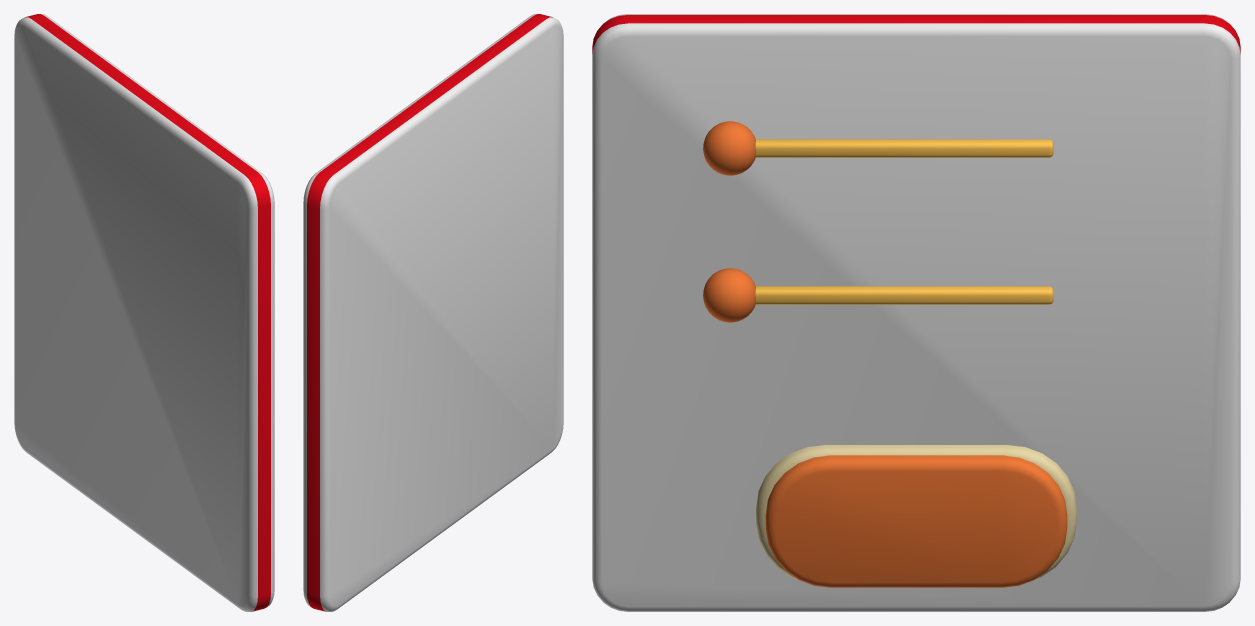
File: DM_Panel_1.fbx
The picture shows the model from 3 angles, left to right: view 1: azimuth 30°, elevation 25°; view 2: azimuth 150°, elevation 25°; view 3: azimuth 270°, elevation 25°; orthographic projection. The views are drawn at different scales.
Parts seen in each view (by area): view 1: DM_Panel_1; view 2: DM_Panel_1; view 3: DM_Panel_1, DM_Panel_3, DM_Panel_4, DM_Panel_6, DM_Panel_2, DM_Panel_5, DM_Panel_7.
Boxes of the visible parts, left/top/right/bottom form: DM_Panel_1: left=14, top=14, right=274, bottom=611; DM_Panel_1: left=303, top=14, right=563, bottom=611; DM_Panel_1: left=592, top=14, right=1240, bottom=611; DM_Panel_3: left=765, top=455, right=1067, bottom=587; DM_Panel_4: left=755, top=139, right=1053, bottom=157; DM_Panel_6: left=755, top=286, right=1053, bottom=304; DM_Panel_2: left=756, top=445, right=1076, bottom=579; DM_Panel_5: left=703, top=121, right=755, bottom=175; DM_Panel_7: left=703, top=268, right=755, bottom=322.
Bounding box in the file's own units: 0.1701 × 1.38 × 1.38.
